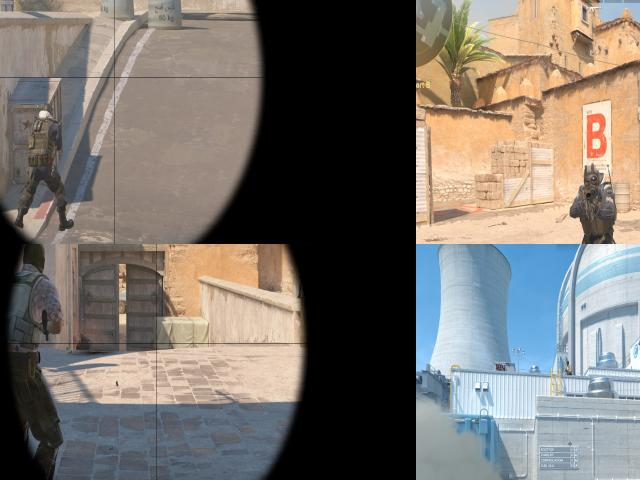CT: (19, 103, 67, 210), (577, 163, 618, 244)
CT-Head: (584, 165, 600, 191), (42, 103, 55, 118)
T: (10, 244, 55, 469), (564, 362, 572, 376)
T-Head: (21, 244, 44, 268), (566, 361, 570, 366)
